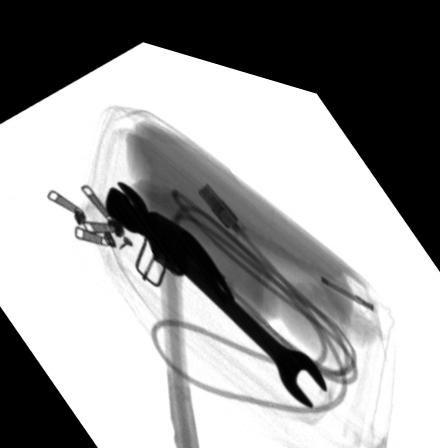Hammer: (103, 178, 234, 448)
Wrench: (105, 173, 326, 392)
